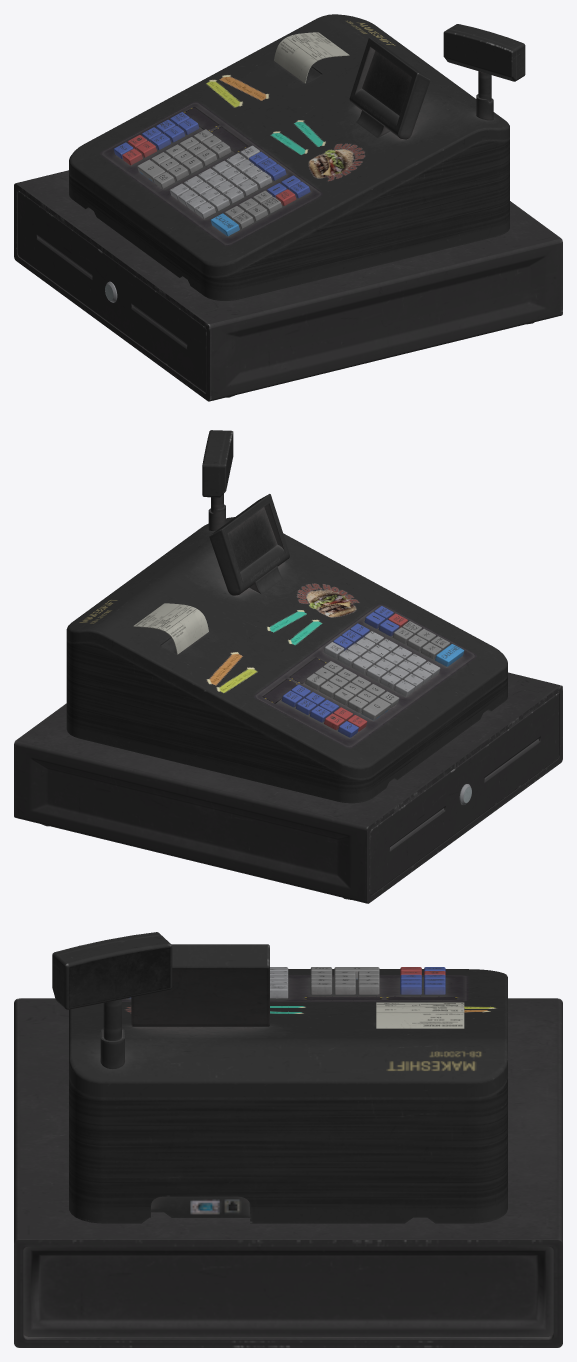
File: SM_PAD_CashRegister_c1_LOD1.fbx
3 renders of one model, top to bottom at view 1: azimuth 30°, elevation 25°; view 2: azimuth 150°, elevation 25°; view 3: azimuth 270°, elevation 25°, orthographic. The views are drawn at different scales.
Parts seen in each view (by area): view 1: SM_PAD_CashRegister_c1_LOD1_LOD0; view 2: SM_PAD_CashRegister_c1_LOD1_LOD0; view 3: SM_PAD_CashRegister_c1_LOD1_LOD0.
Boxes of the visible parts, bbox=[...] form: SM_PAD_CashRegister_c1_LOD1_LOD0: bbox=[14, 14, 562, 401]; SM_PAD_CashRegister_c1_LOD1_LOD0: bbox=[14, 430, 562, 903]; SM_PAD_CashRegister_c1_LOD1_LOD0: bbox=[14, 932, 562, 1347].
Size of the model in its own units: 36.71 by 35 by 26.88.
